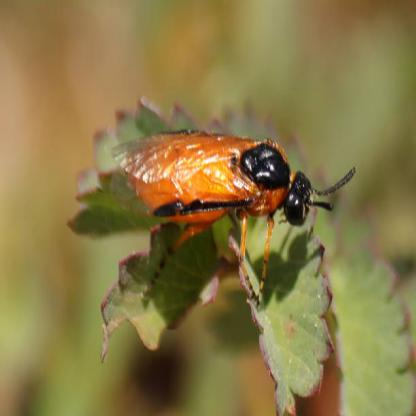sawfly: (114, 123, 357, 308)
